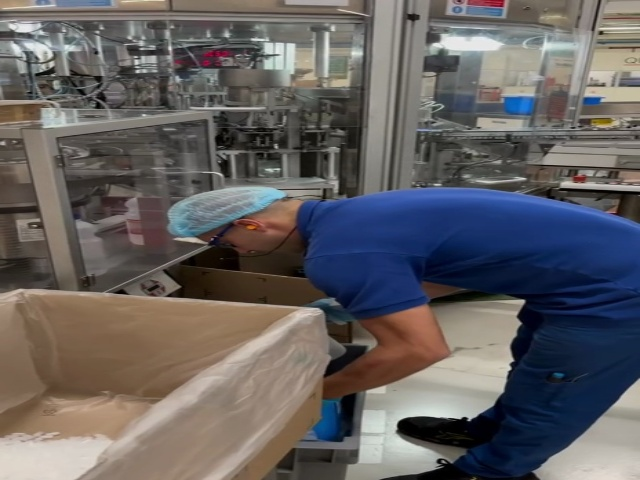Earplug: (230, 218, 281, 234)
Hairnet: (170, 185, 273, 236)
No_Helmet: (167, 185, 290, 238)
No_Vest: (304, 194, 638, 298)
Person: (167, 184, 640, 473)
Safety_Goggles: (200, 211, 244, 249)
